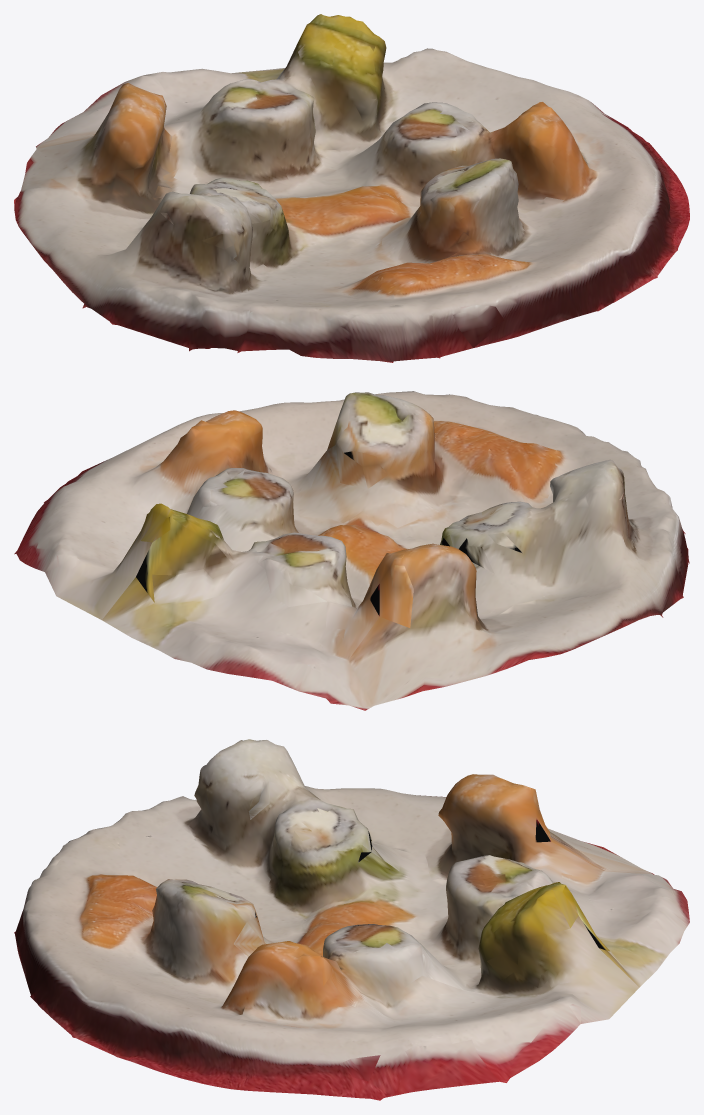
The model's file is SUSHI.gltf.
3 views of the same model, one above another, from view 1: azimuth 30°, elevation 25°; view 2: azimuth 150°, elevation 25°; view 3: azimuth 270°, elevation 25° (orthographic).
Visible parts, largest first — view 1: texturedMesh; view 2: texturedMesh; view 3: texturedMesh.
Boxes of the visible parts, bbox=[...] form: texturedMesh: bbox=[14, 14, 689, 362]; texturedMesh: bbox=[14, 391, 689, 710]; texturedMesh: bbox=[14, 739, 689, 1100].
Bounding box in the file's own units: 1.3 × 0.2442 × 1.28.
1 material, 1 textured.
